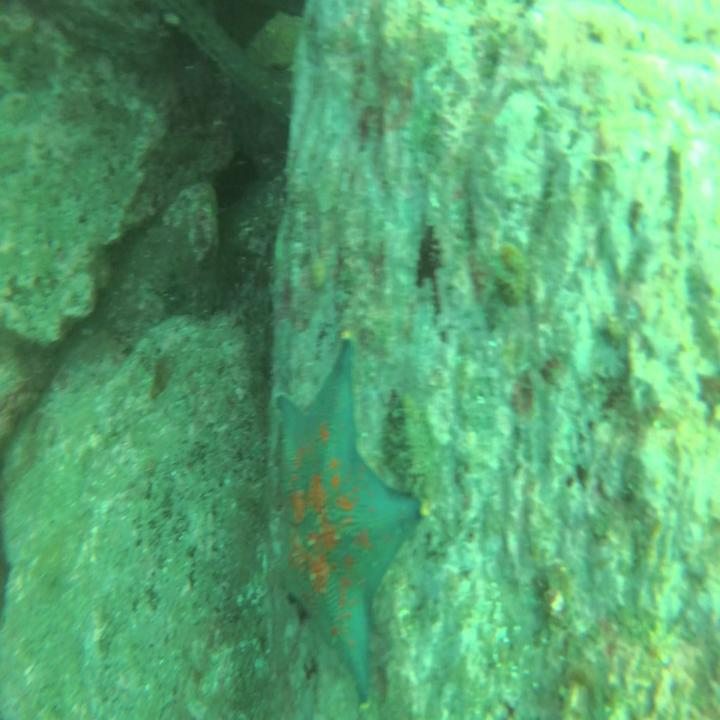starfish: (270, 329, 432, 710)
